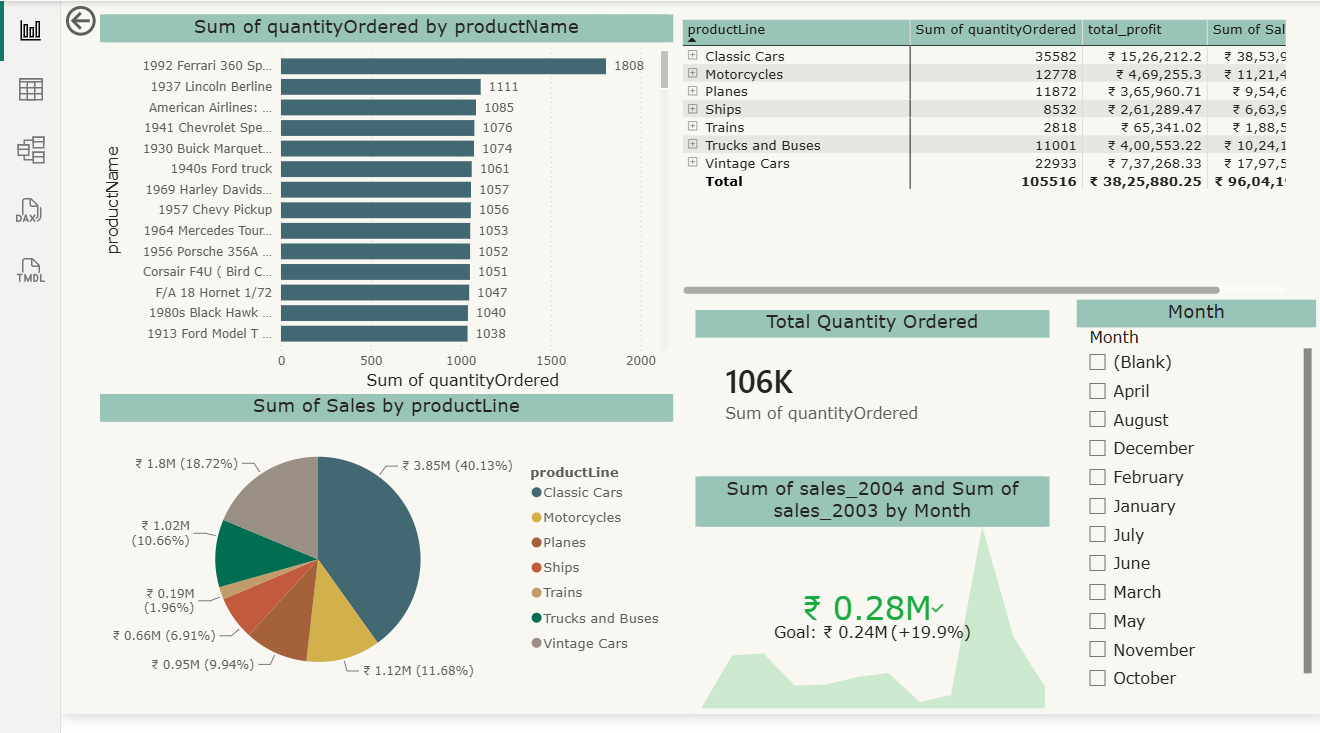

Layout of this report page (visuals, bound fields, positions):
{"tool":"powerbi","page":{"name":"Page 1","canvas":[1280,720],"ordinal":0},"visuals":[{"type":"barChart","fields":{"Category":["Products.productName"],"Y":["Sum(Order_details.quantityOrdered)"]},"box":[39.4,13.6,578.4,383.1],"z":0},{"type":"actionButton","box":[0,0,100,40],"z":2},{"type":"pieChart","fields":{"Y":["Sum(Order_details.Sales)"],"Series":["Products.productLine"]},"box":[39.4,396.7,578.4,310.4],"z":3},{"type":"pivotTable","fields":{"Rows":["Products.productLine","Products.productName"],"Values":["Sum(Order_details.quantityOrdered)","Order_details.total_profit","Sum(Order_details.Sales)"]},"box":[622.3,13.6,619.3,287.7],"z":4},{"type":"slicer","title":"Month","fields":{"Values":["Orders.Month"]},"box":[1025.1,301.3,242.3,405.8],"z":6},{"type":"cardVisual","title":"Total Quantity Ordered","fields":{"Data":["Sum(Order_details.quantityOrdered)"]},"box":[640.5,311.9,357.4,137.8],"z":7},{"type":"kpi","fields":{"Goal":["Sum(Orders.sales_2003)"],"TrendLine":["Orders.Month"],"Indicator":["Sum(Orders.sales_2004)"]},"box":[640.5,480,357.4,239.2],"z":8}]}

Visuals, with their boxes on the page's 1280x720 design canvas (x1, y1, x2, y2). These are canvas units, not pixel positions in the 1320x733 screenshot, which may show the page scaled, cropped or inside an application window:
barChart - Products.productName x Sum(Order_details.quantityOrdered): [39,14,618,397]
actionButton: [0,0,100,40]
pieChart - Sum(Order_details.Sales) x Products.productLine: [39,397,618,707]
pivotTable - Products.productLine x Products.productName: [622,14,1242,301]
"Month" slicer: [1025,301,1267,707]
"Total Quantity Ordered" cardVisual: [640,312,998,450]
kpi - Sum(Orders.sales_2003) x Orders.Month: [640,480,998,719]
